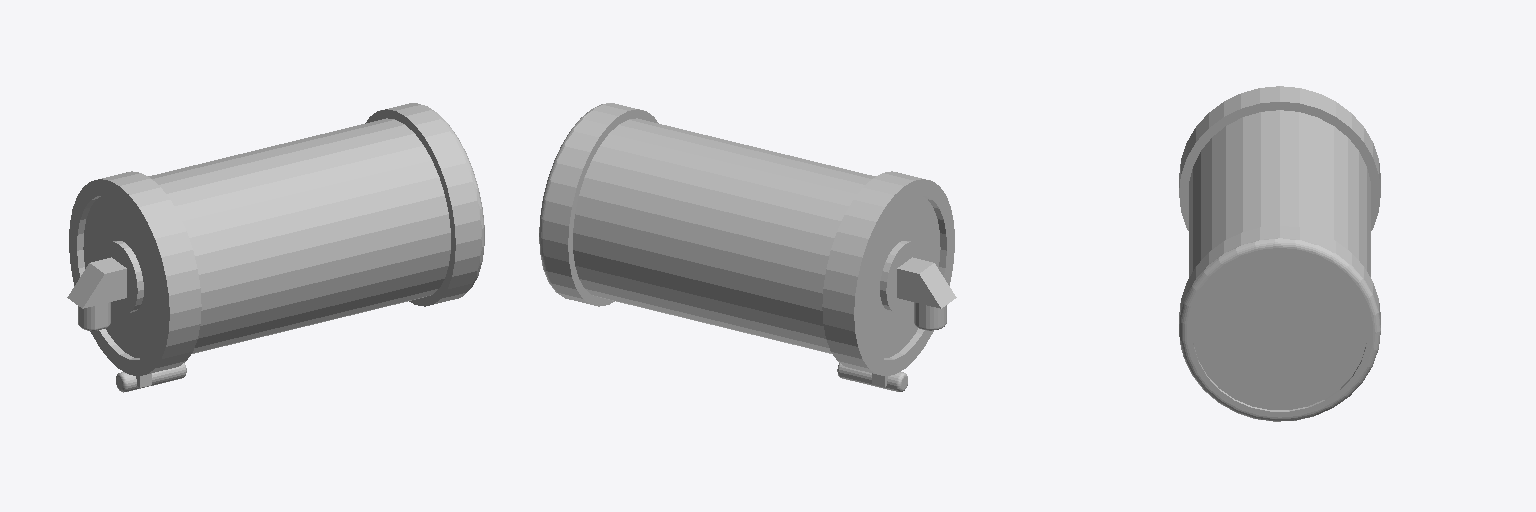
Rendered from SchmidtCassegrainAltAz.obj.
3 views of the same model, side by side, from view 1: azimuth 30°, elevation 25°; view 2: azimuth 150°, elevation 25°; view 3: azimuth 270°, elevation 25° (orthographic).
Visible parts, largest first — view 1: Body2.002; view 2: Body2.002; view 3: Body2.002.
Part boxes in pixels (bbox=[...]): Body2.002: bbox=[67, 103, 484, 392]; Body2.002: bbox=[539, 103, 956, 391]; Body2.002: bbox=[1179, 86, 1380, 421].
Bounding box in the file's own units: 570 × 310 × 275.